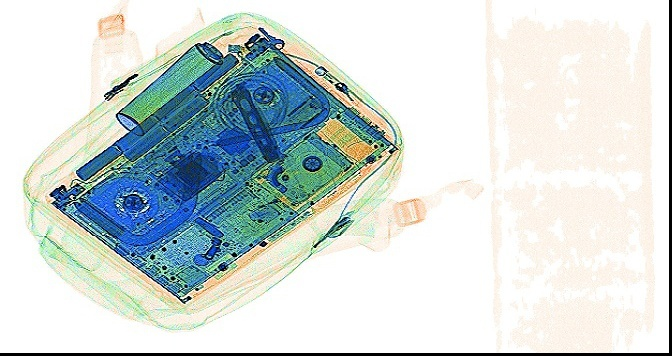knife: (228, 82, 286, 166)
lighter: (311, 63, 365, 108)
pressure: (114, 31, 236, 138)
